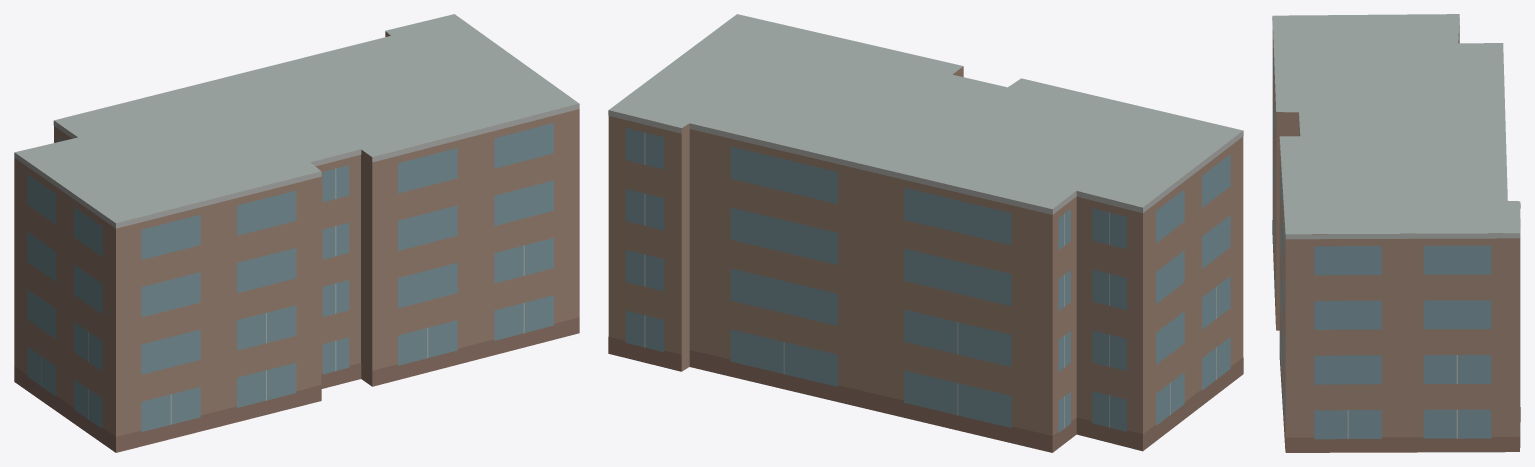
The model's file is survey-upis-32778823.glb.
The picture shows the model from 3 angles, left to right: view 1: azimuth 30°, elevation 25°; view 2: azimuth 150°, elevation 25°; view 3: azimuth 270°, elevation 25°; orthographic projection. The views are drawn at different scales.
Visible parts, largest first — view 1: survey-upis-32778823.tmp; view 2: survey-upis-32778823.tmp; view 3: survey-upis-32778823.tmp.
Part boxes in pixels (left/top/right/bottom): survey-upis-32778823.tmp: left=14, top=14, right=579, bottom=452; survey-upis-32778823.tmp: left=608, top=14, right=1243, bottom=452; survey-upis-32778823.tmp: left=1272, top=14, right=1520, bottom=452.
Bounding box in the file's own units: 22.8 × 10.55 × 10.85.
